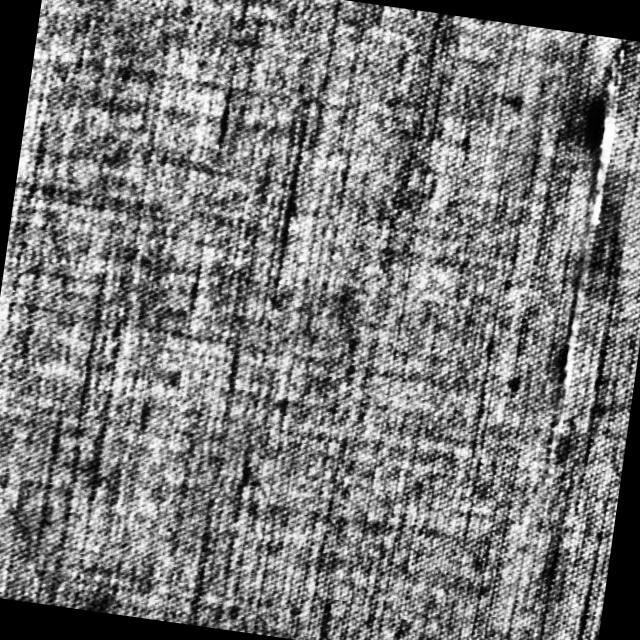gray stitch: (535, 35, 640, 456)
